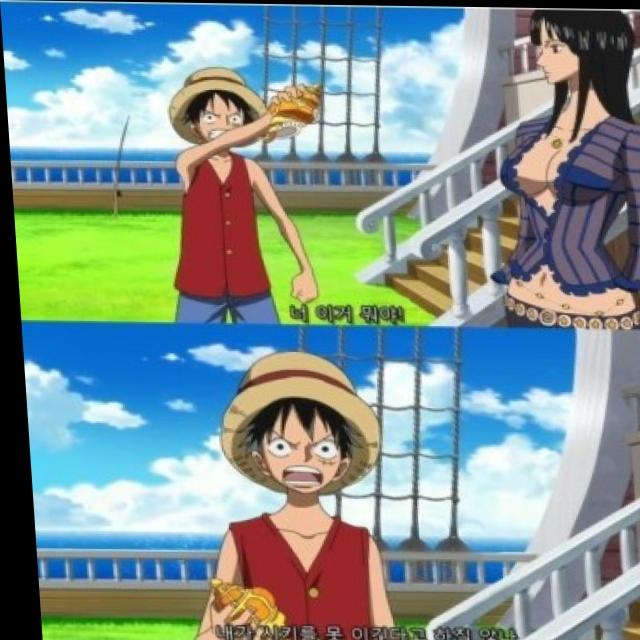Luffy: (198, 340, 392, 506), (158, 58, 281, 162)
NicoRobin: (519, 6, 640, 121)
